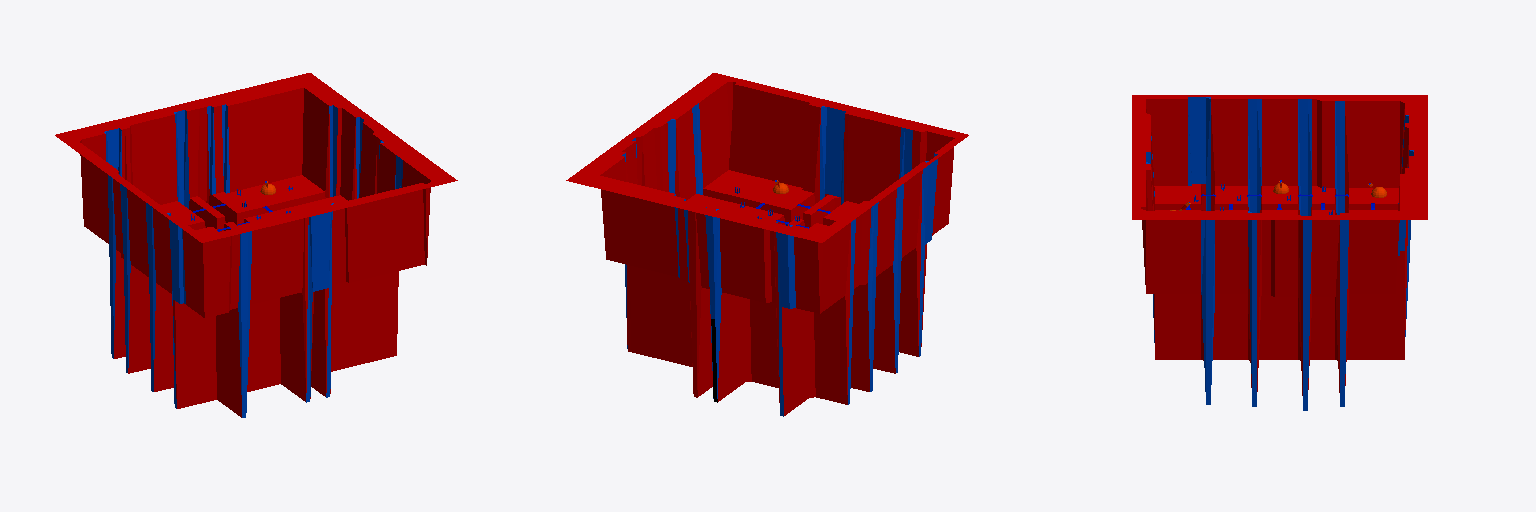
The model's file is mars.obj.
3 renders of one model, left to right at view 1: azimuth 30°, elevation 25°; view 2: azimuth 150°, elevation 25°; view 3: azimuth 270°, elevation 25°, orthographic.
Visible parts, largest first — view 1: Plane; view 2: Plane; view 3: Plane.
Part boxes in pixels (x1,y1,x2,y2): Plane: (55,73,457,417); Plane: (566,73,968,416); Plane: (1132,95,1427,410).
Size of the model in its own units: 36.42 by 26.66 by 36.42.